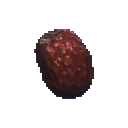gd: (10, 18, 118, 115)
